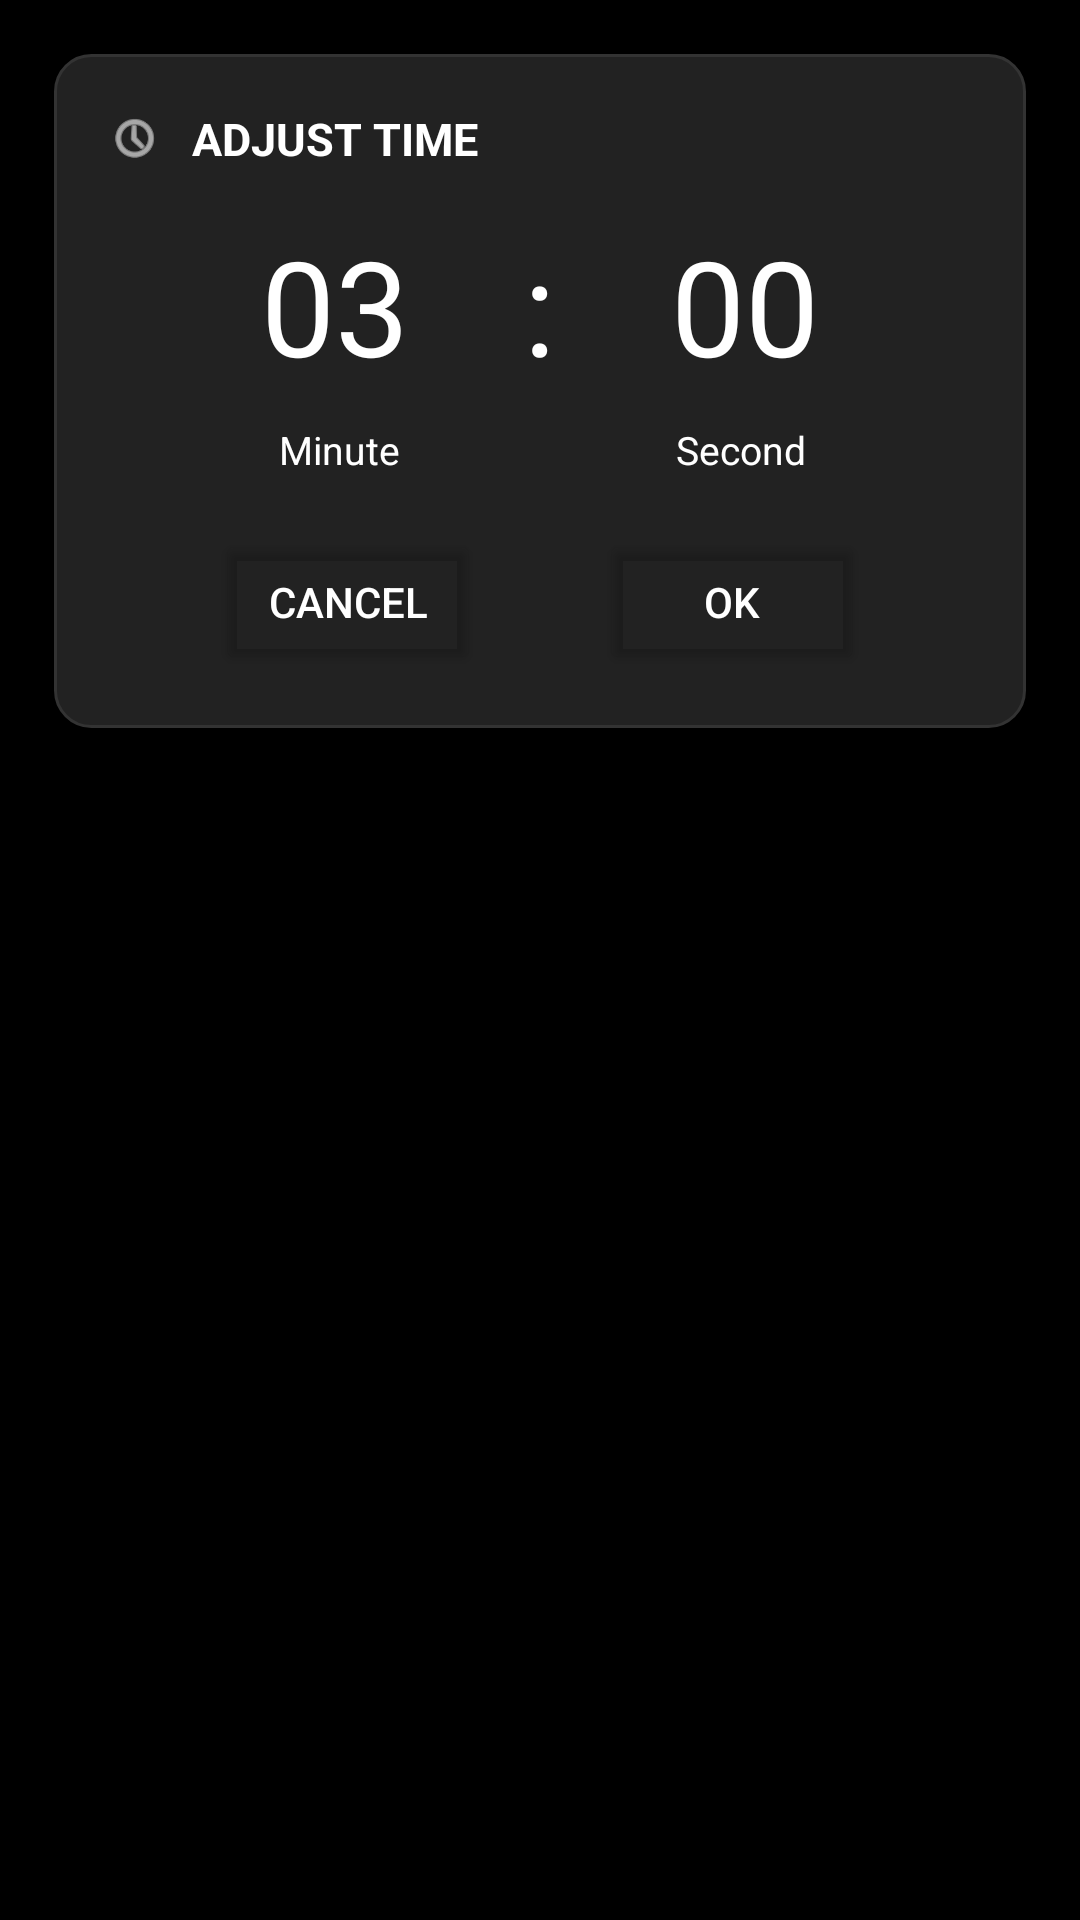

Icon click points for this 1080px x 1920px phone screenshot, format (x=x, y=y):
recent history: (x=134, y=138)
